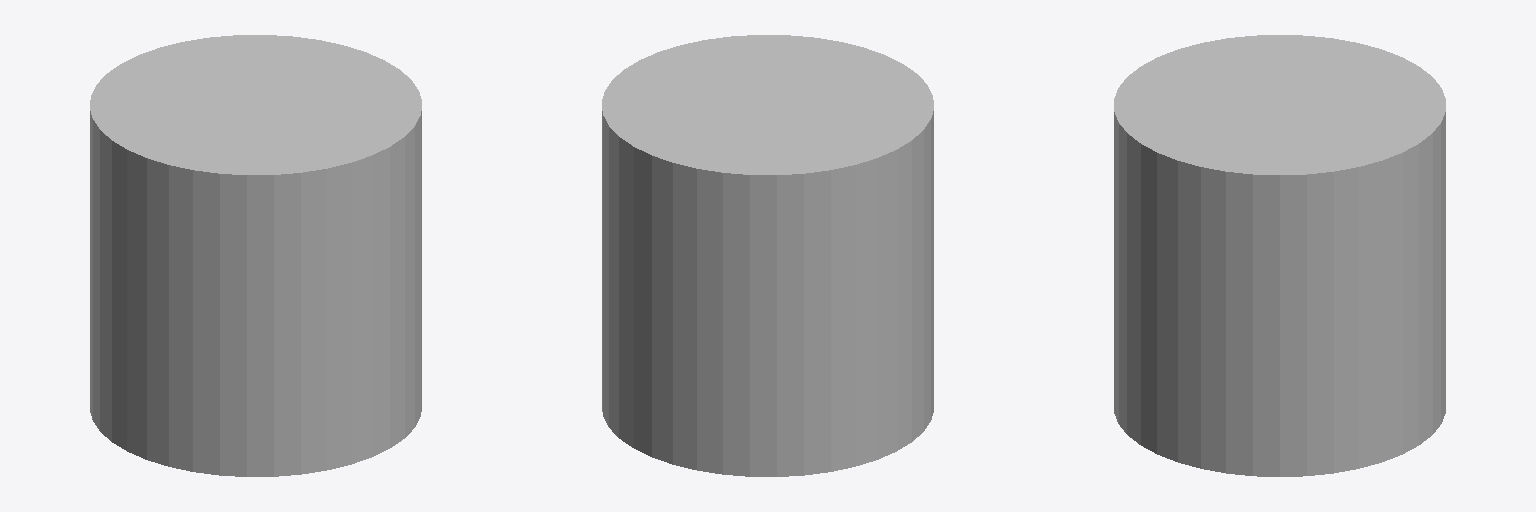
3 renders of one model, left to right at view 1: azimuth 30°, elevation 25°; view 2: azimuth 150°, elevation 25°; view 3: azimuth 270°, elevation 25°, orthographic.
Visible parts, largest first — view 1: MeshBody1; view 2: MeshBody1; view 3: MeshBody1.
Part boxes in pixels (x1,y1,x2,y2): MeshBody1: (90, 35, 421, 476); MeshBody1: (602, 35, 933, 476); MeshBody1: (1114, 35, 1445, 476).
Size of the model in its own units: 3 by 3 by 2.99.